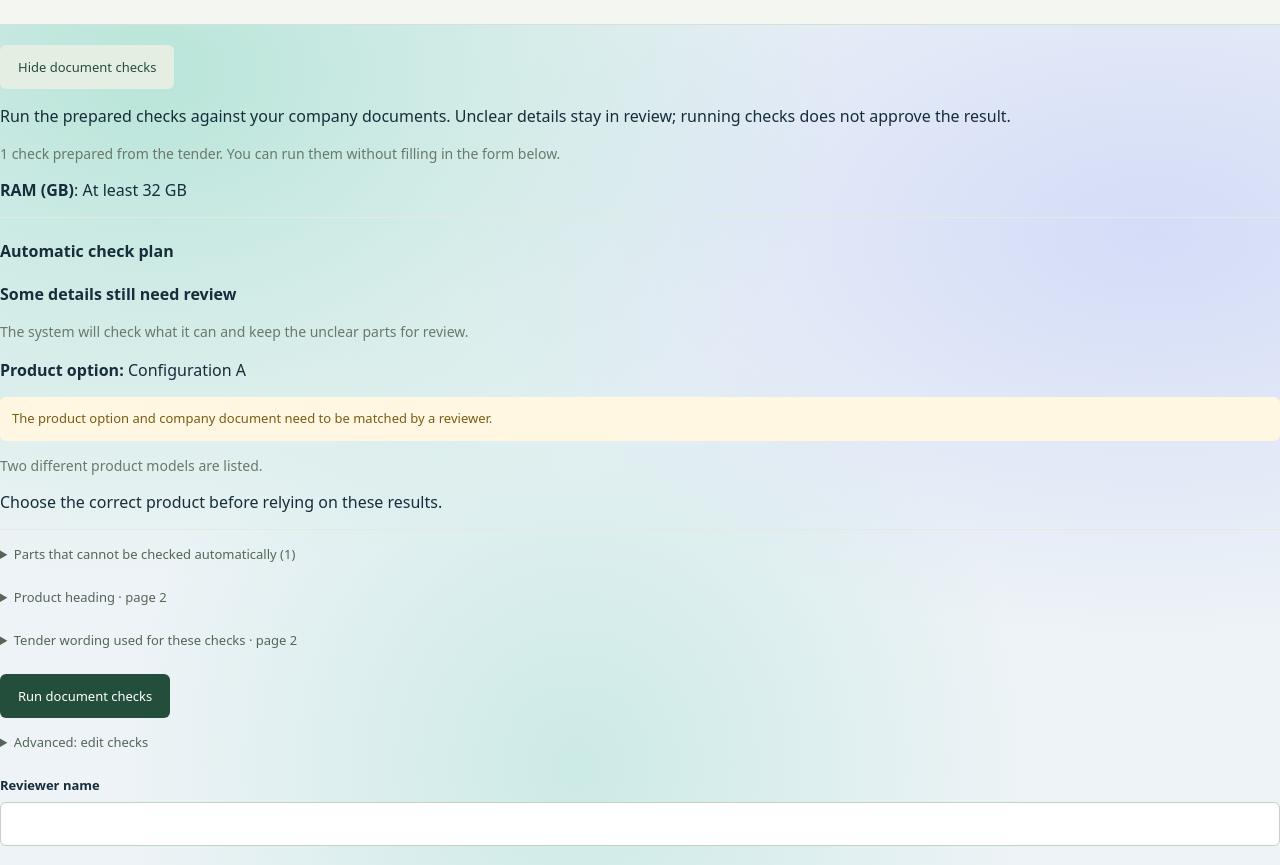
Test: keeps unclear product mapping and unhandled clauses visible without a false ready state
This screenshot has width=1280, height=865.
Check: the text "Some details still need review" is shown, box top-left (0, 283), bottom-right (236, 305)
Check: the text "Two different product models are listed." is shown, box top-left (0, 456), bottom-right (262, 475)
Click the heading "Parts that cannot be checked automatically (1)" at (155, 554), box top-left (14, 545), bottom-right (295, 563)
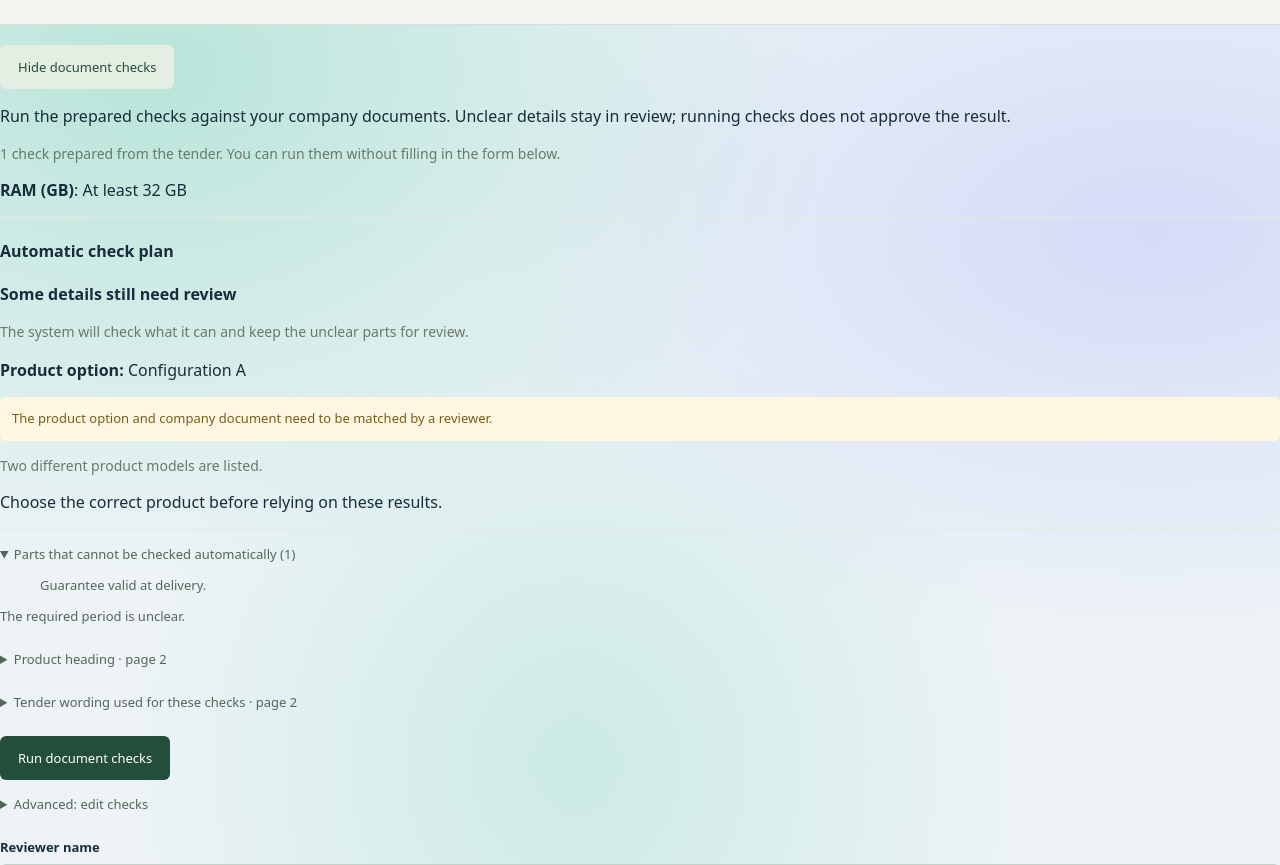
Check: the button "Run document checks" is enabled, box top-left (0, 736), bottom-right (170, 780)
Check: the text "Guarantee valid at delivery." is shown, box top-left (40, 576), bottom-right (206, 594)
Check: the text "The required period is unclear." is shown, box top-left (0, 607), bottom-right (185, 625)
